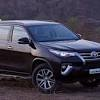Toyota: (1, 20, 99, 79)
